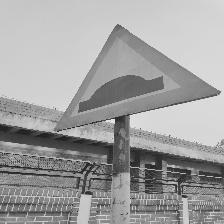Speed-breaker: (57, 24, 217, 123)
